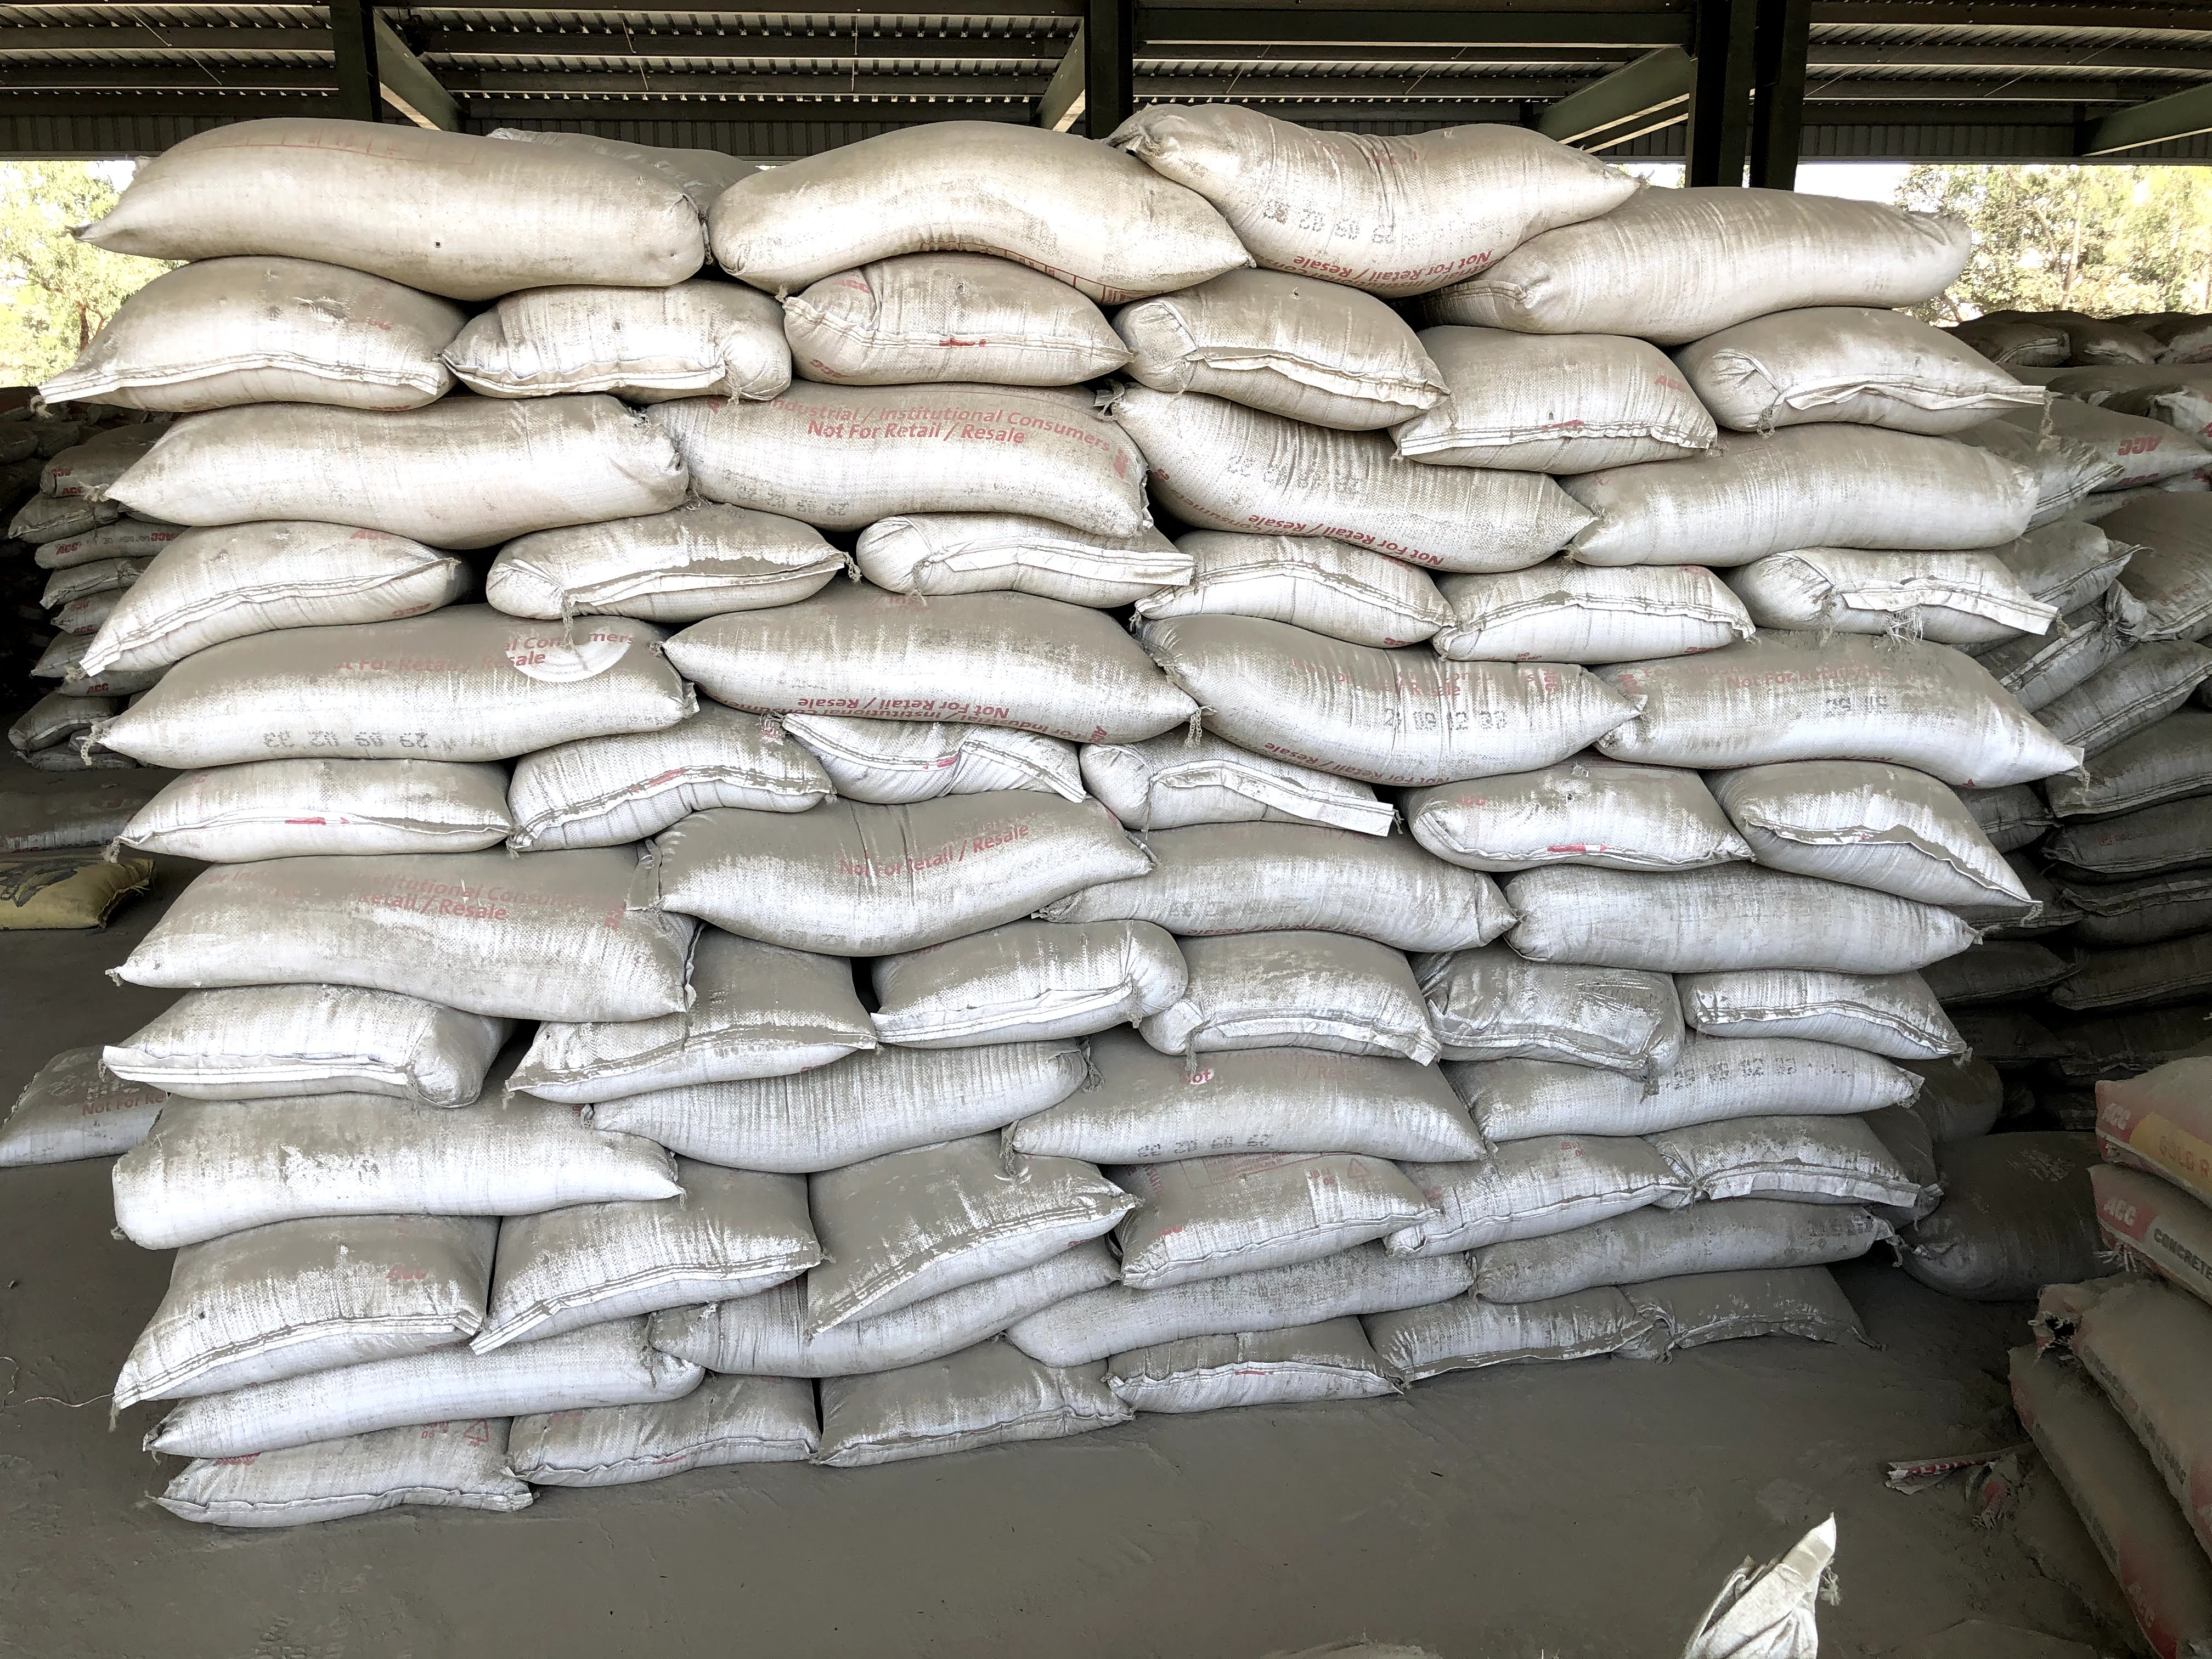cement bag: (141, 124, 718, 258), (160, 866, 683, 1012), (127, 1077, 685, 1206), (146, 387, 683, 502), (685, 1047, 1061, 1206), (1141, 420, 1576, 551), (1475, 1192, 1930, 1314), (146, 619, 674, 721), (1491, 861, 1966, 971), (718, 159, 1223, 258), (1576, 450, 2031, 551), (674, 819, 1132, 918), (1061, 1047, 1489, 1152), (460, 1209, 765, 1352), (1489, 1047, 1902, 1152), (1165, 652, 1615, 748), (1533, 216, 2005, 307), (125, 272, 449, 397), (449, 279, 784, 397), (683, 420, 1141, 502), (1153, 291, 1428, 427), (1115, 1324, 1399, 1453), (528, 962, 857, 1072), (87, 1256, 460, 1352), (1223, 159, 1599, 251), (531, 1392, 831, 1507), (674, 652, 1165, 721), (1721, 307, 2005, 425), (108, 1352, 714, 1405), (805, 274, 1115, 375), (1404, 329, 1721, 425), (106, 1000, 528, 1072), (1615, 683, 2073, 748), (1129, 1173, 1406, 1277), (1696, 972, 2005, 1063), (714, 1277, 1085, 1352), (1167, 943, 1409, 1053), (1420, 976, 1683, 1075), (1648, 1134, 1892, 1239), (87, 537, 521, 594), (765, 1209, 1129, 1277), (1430, 781, 1735, 861), (521, 526, 876, 594), (876, 526, 1151, 613), (827, 1377, 1115, 1453), (838, 732, 1123, 809), (556, 732, 838, 809), (1132, 861, 1491, 918), (1066, 1269, 1475, 1314), (1629, 1286, 1878, 1359), (150, 765, 556, 809), (178, 1459, 531, 1507), (857, 962, 1146, 1019), (1406, 1173, 1648, 1239), (1442, 573, 1799, 613), (1799, 559, 2043, 613), (1151, 573, 1442, 613), (1735, 817, 1993, 861), (1123, 781, 1430, 809), (1399, 1324, 1629, 1359)
